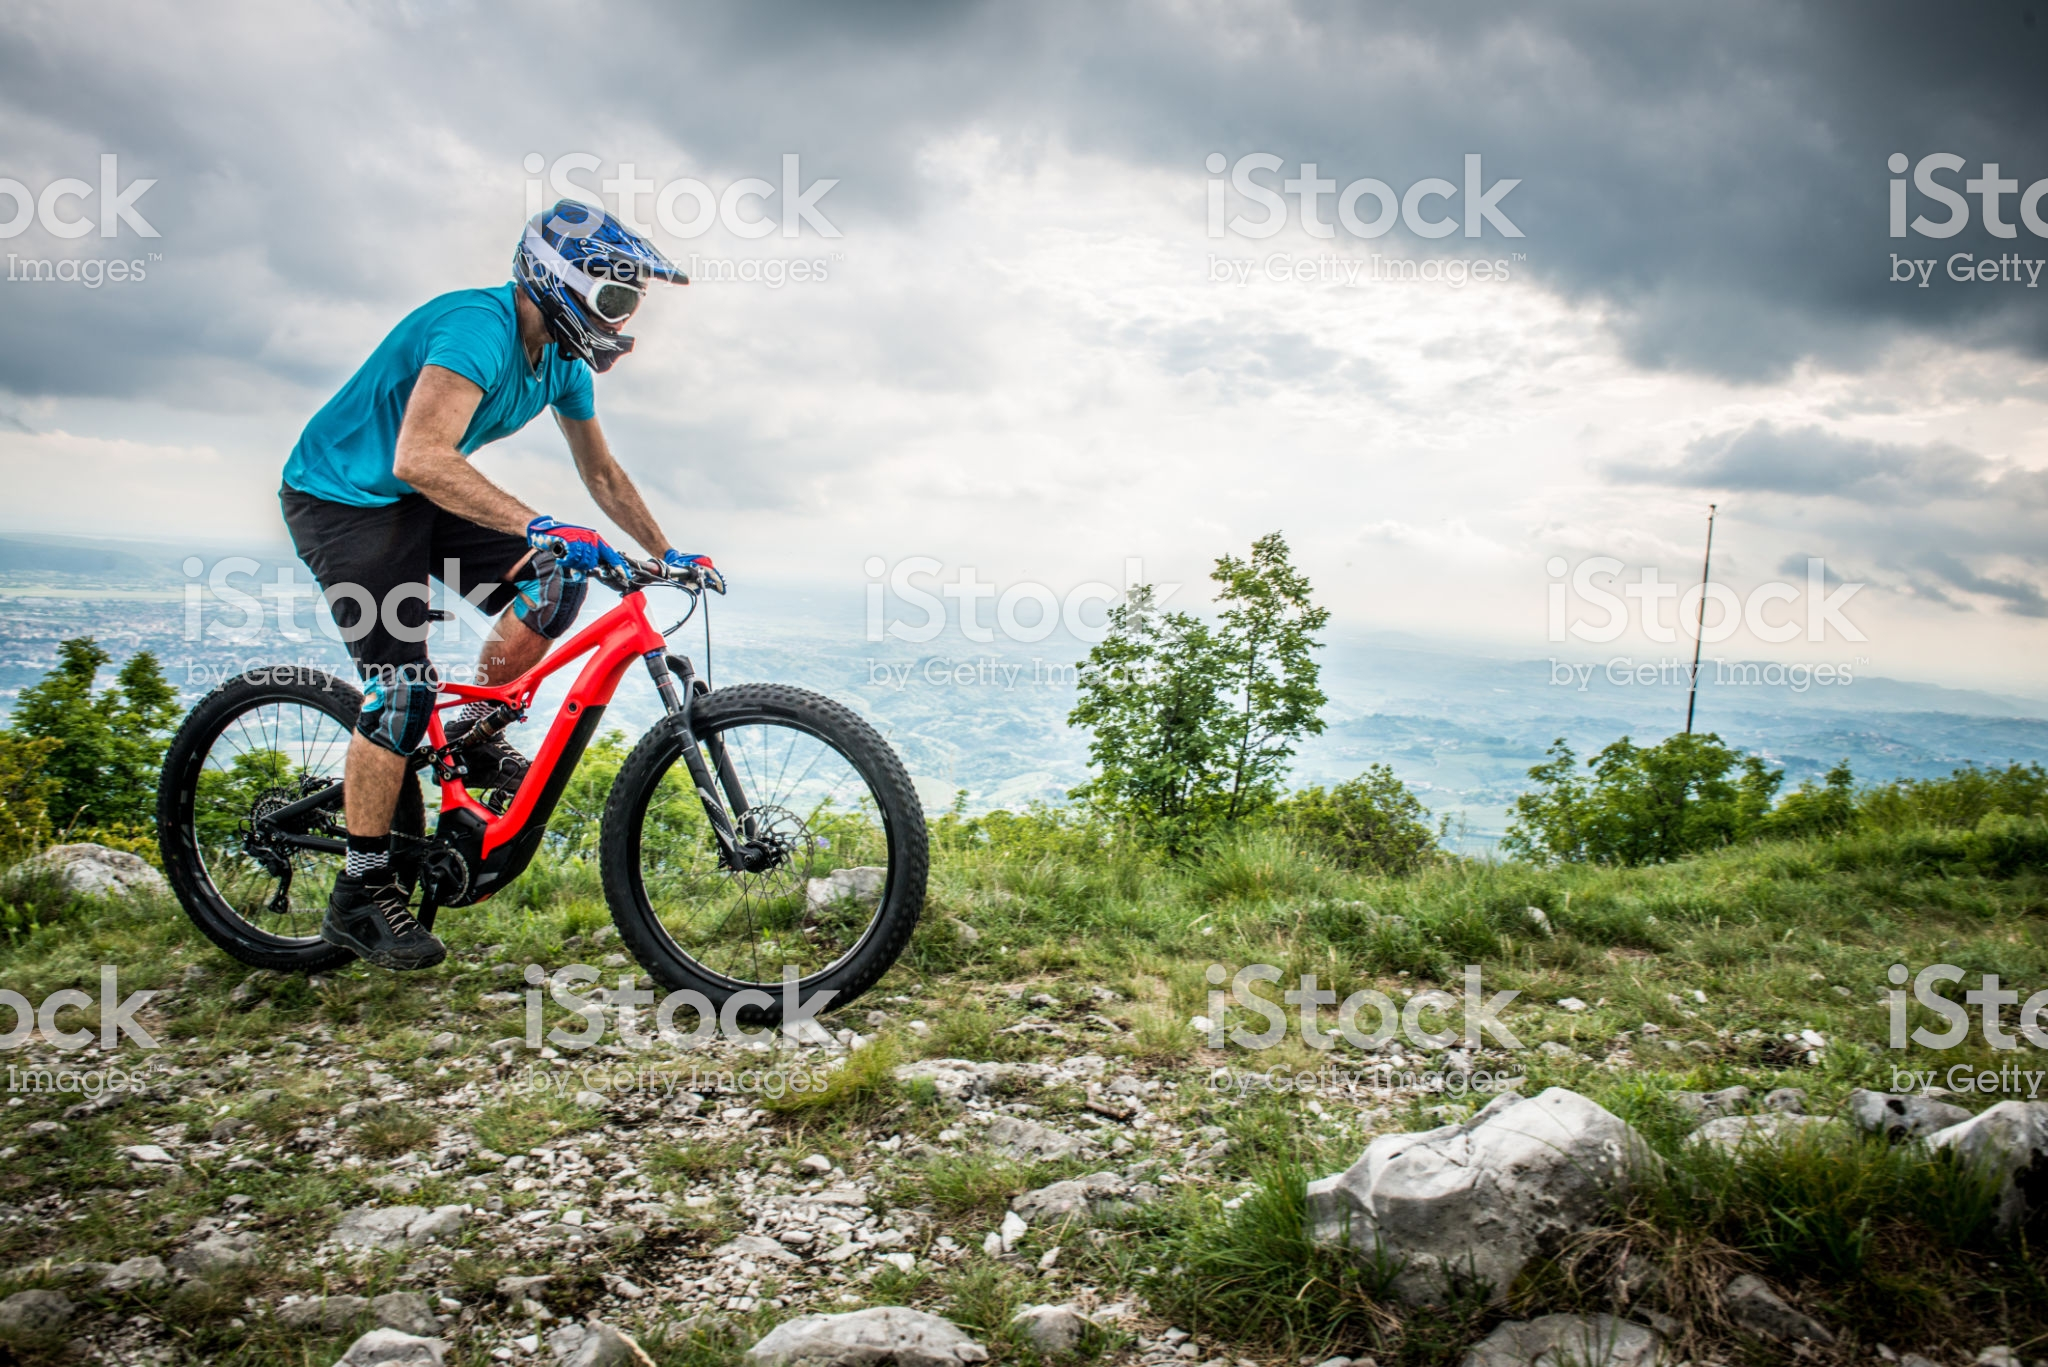helmet: (500, 195, 673, 362)
